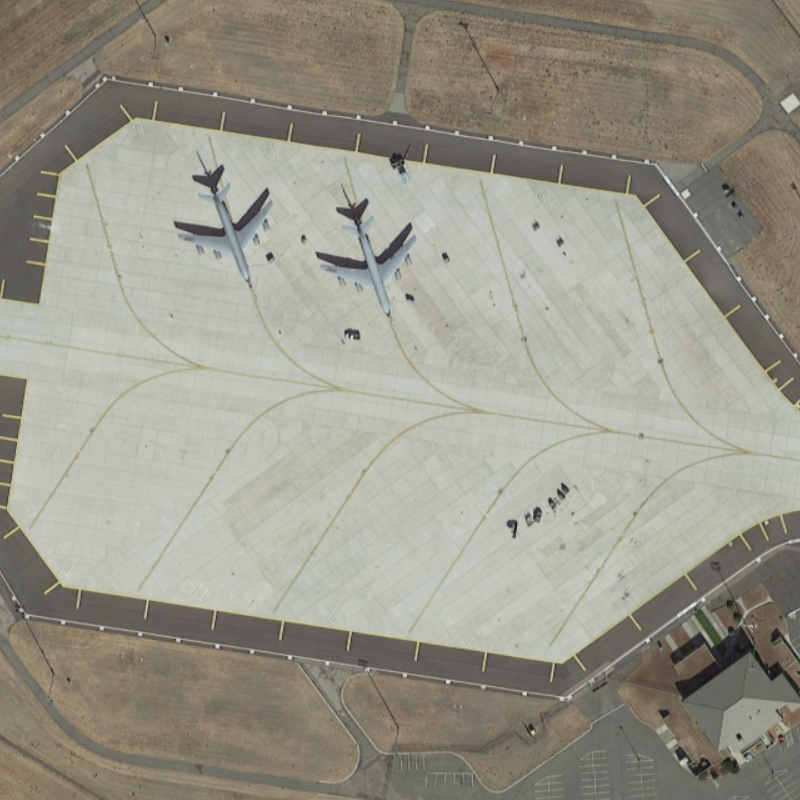A14: (172, 166, 291, 293), (315, 212, 435, 326)
